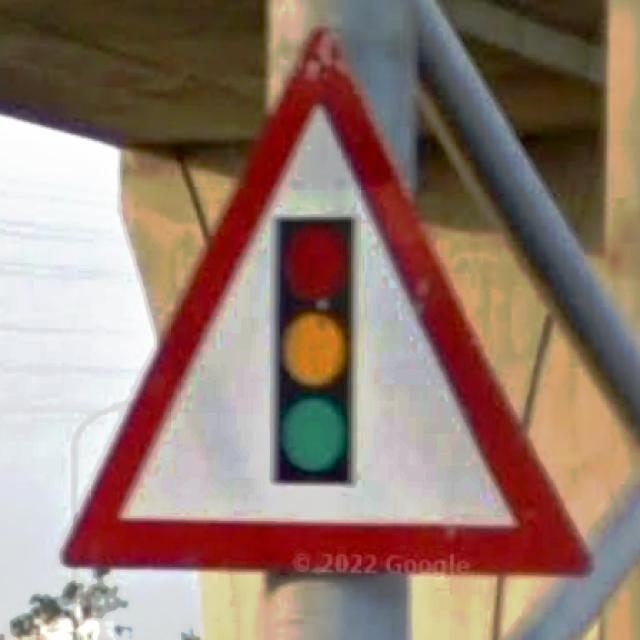signalahead: (63, 28, 593, 576)
